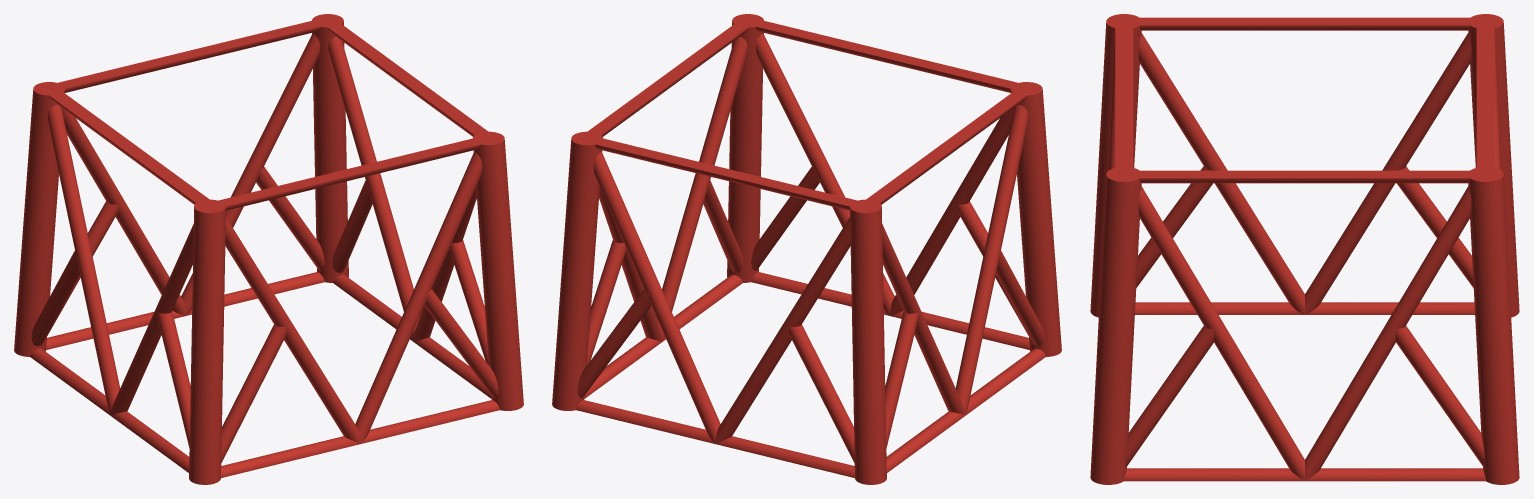
3 renders of one model, left to right at view 1: azimuth 30°, elevation 25°; view 2: azimuth 150°, elevation 25°; view 3: azimuth 270°, elevation 25°, orthographic. The views are drawn at different scales.
Parts seen in each view (by area): view 1: H19-H20; view 2: H19-H20; view 3: H19-H20.
Boxes of the visible parts, bbox=[...] form: H19-H20: bbox=[14, 14, 523, 484]; H19-H20: bbox=[552, 14, 1061, 484]; H19-H20: bbox=[1090, 14, 1519, 484].
Bounding box in the file's own units: 11.94 × 9.1 × 11.94.
